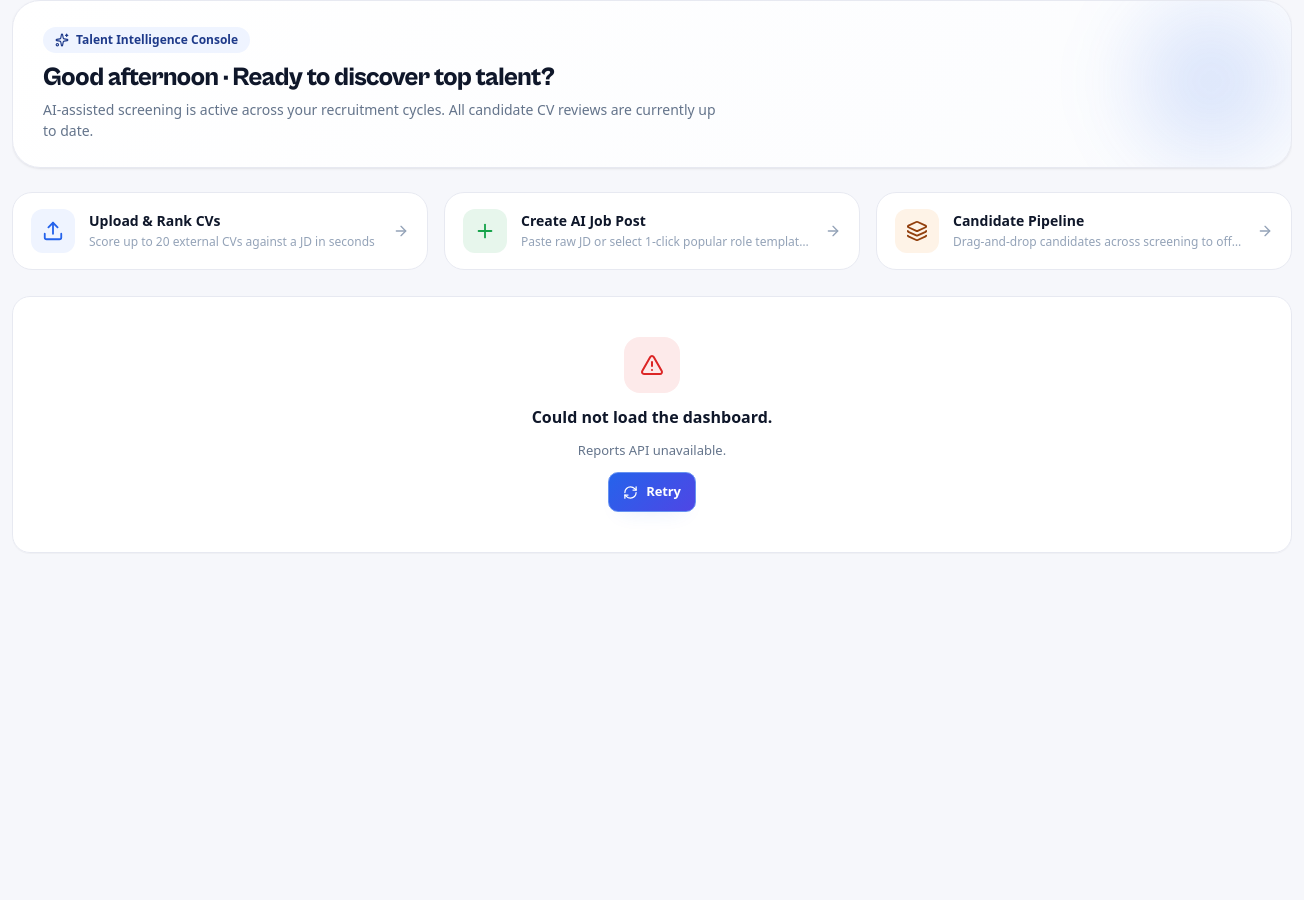
Test case: HRDashboard › shows an error and retries, but the hero stays visible during error
This screenshot has width=1304, height=900.
expect the text "Could not load the dashboard." is shown: met, box [532, 405, 772, 429]
expect the heading "Good afternoon · Ready to discover top talent?" is shown: met, box [43, 62, 554, 92]
What coordinates should you click on to do the following:
click the button "Retry"
I would click on:
 (652, 492)
Its box is [608, 472, 696, 512].
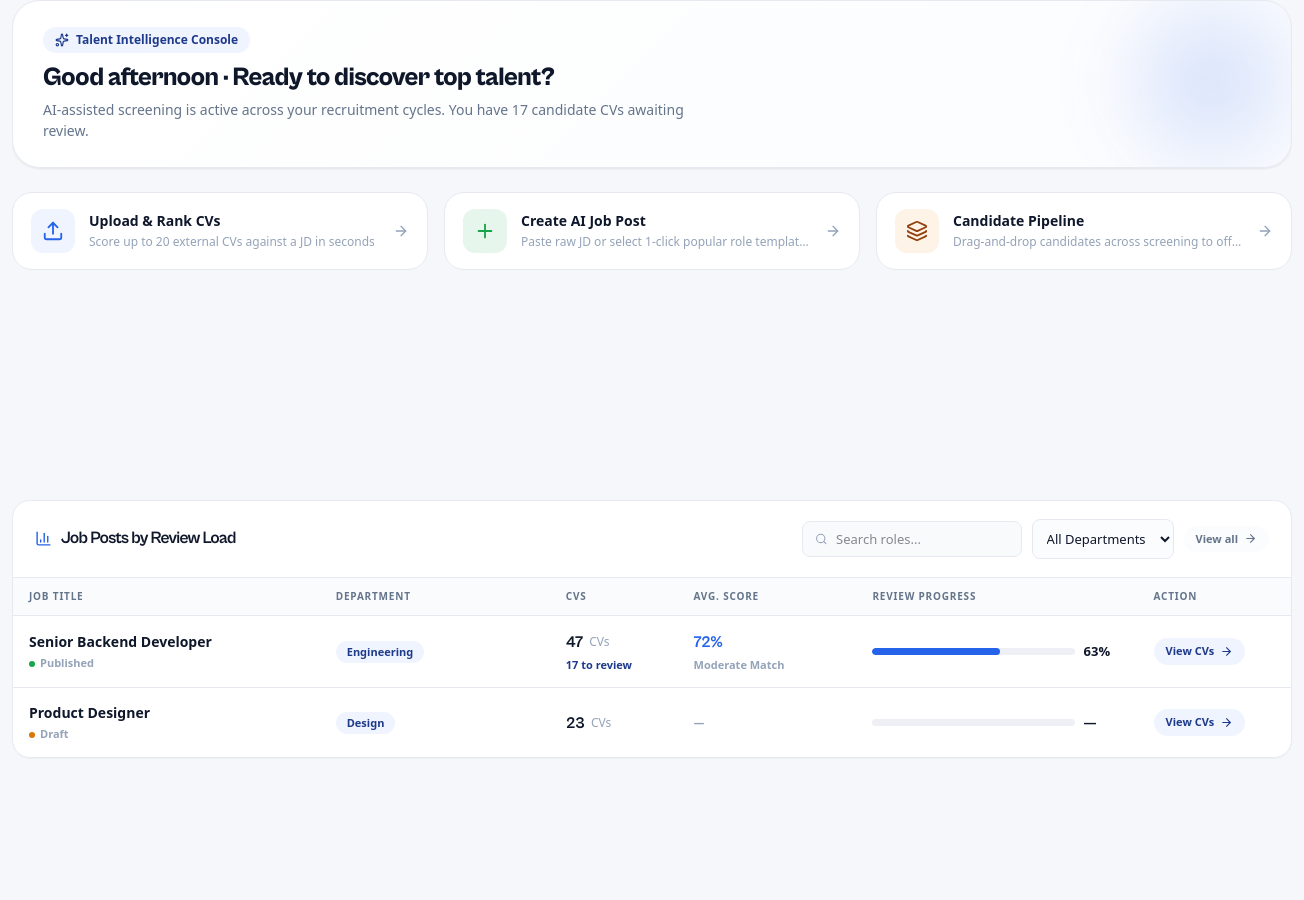
expect the text "Senior Backend Developer" is shown: met, box [29, 632, 212, 651]
